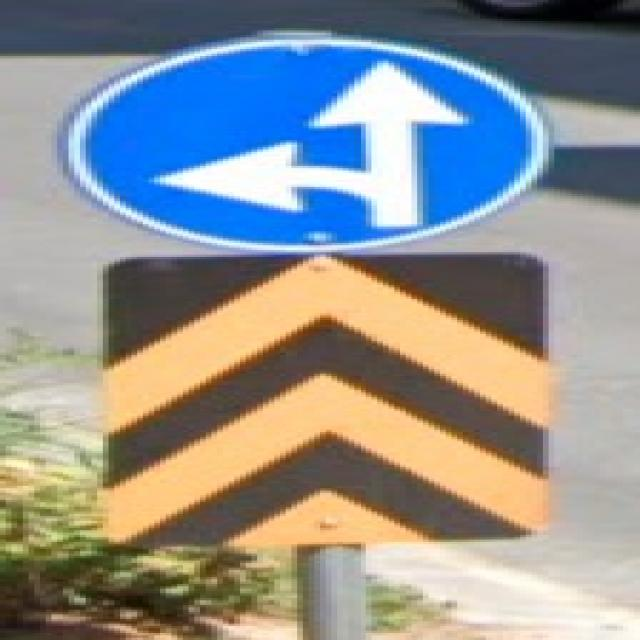Straight or Left: (67, 38, 547, 251)
